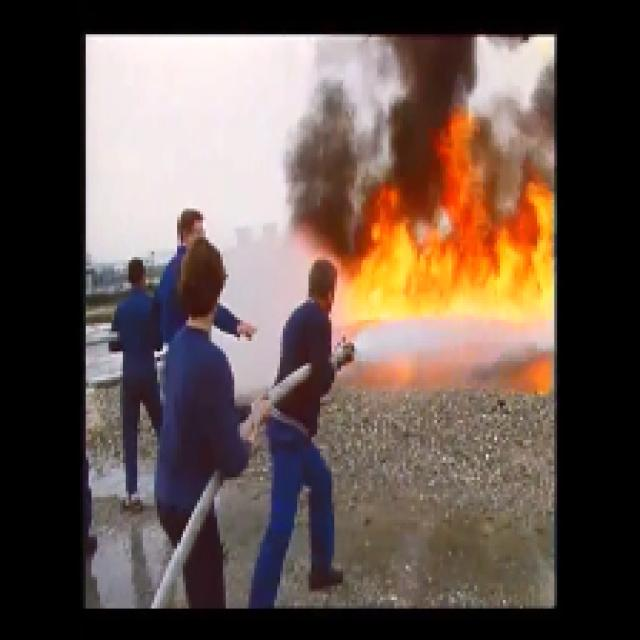fire: (360, 189, 541, 320)
smoke: (397, 40, 460, 188), (297, 108, 350, 242)
